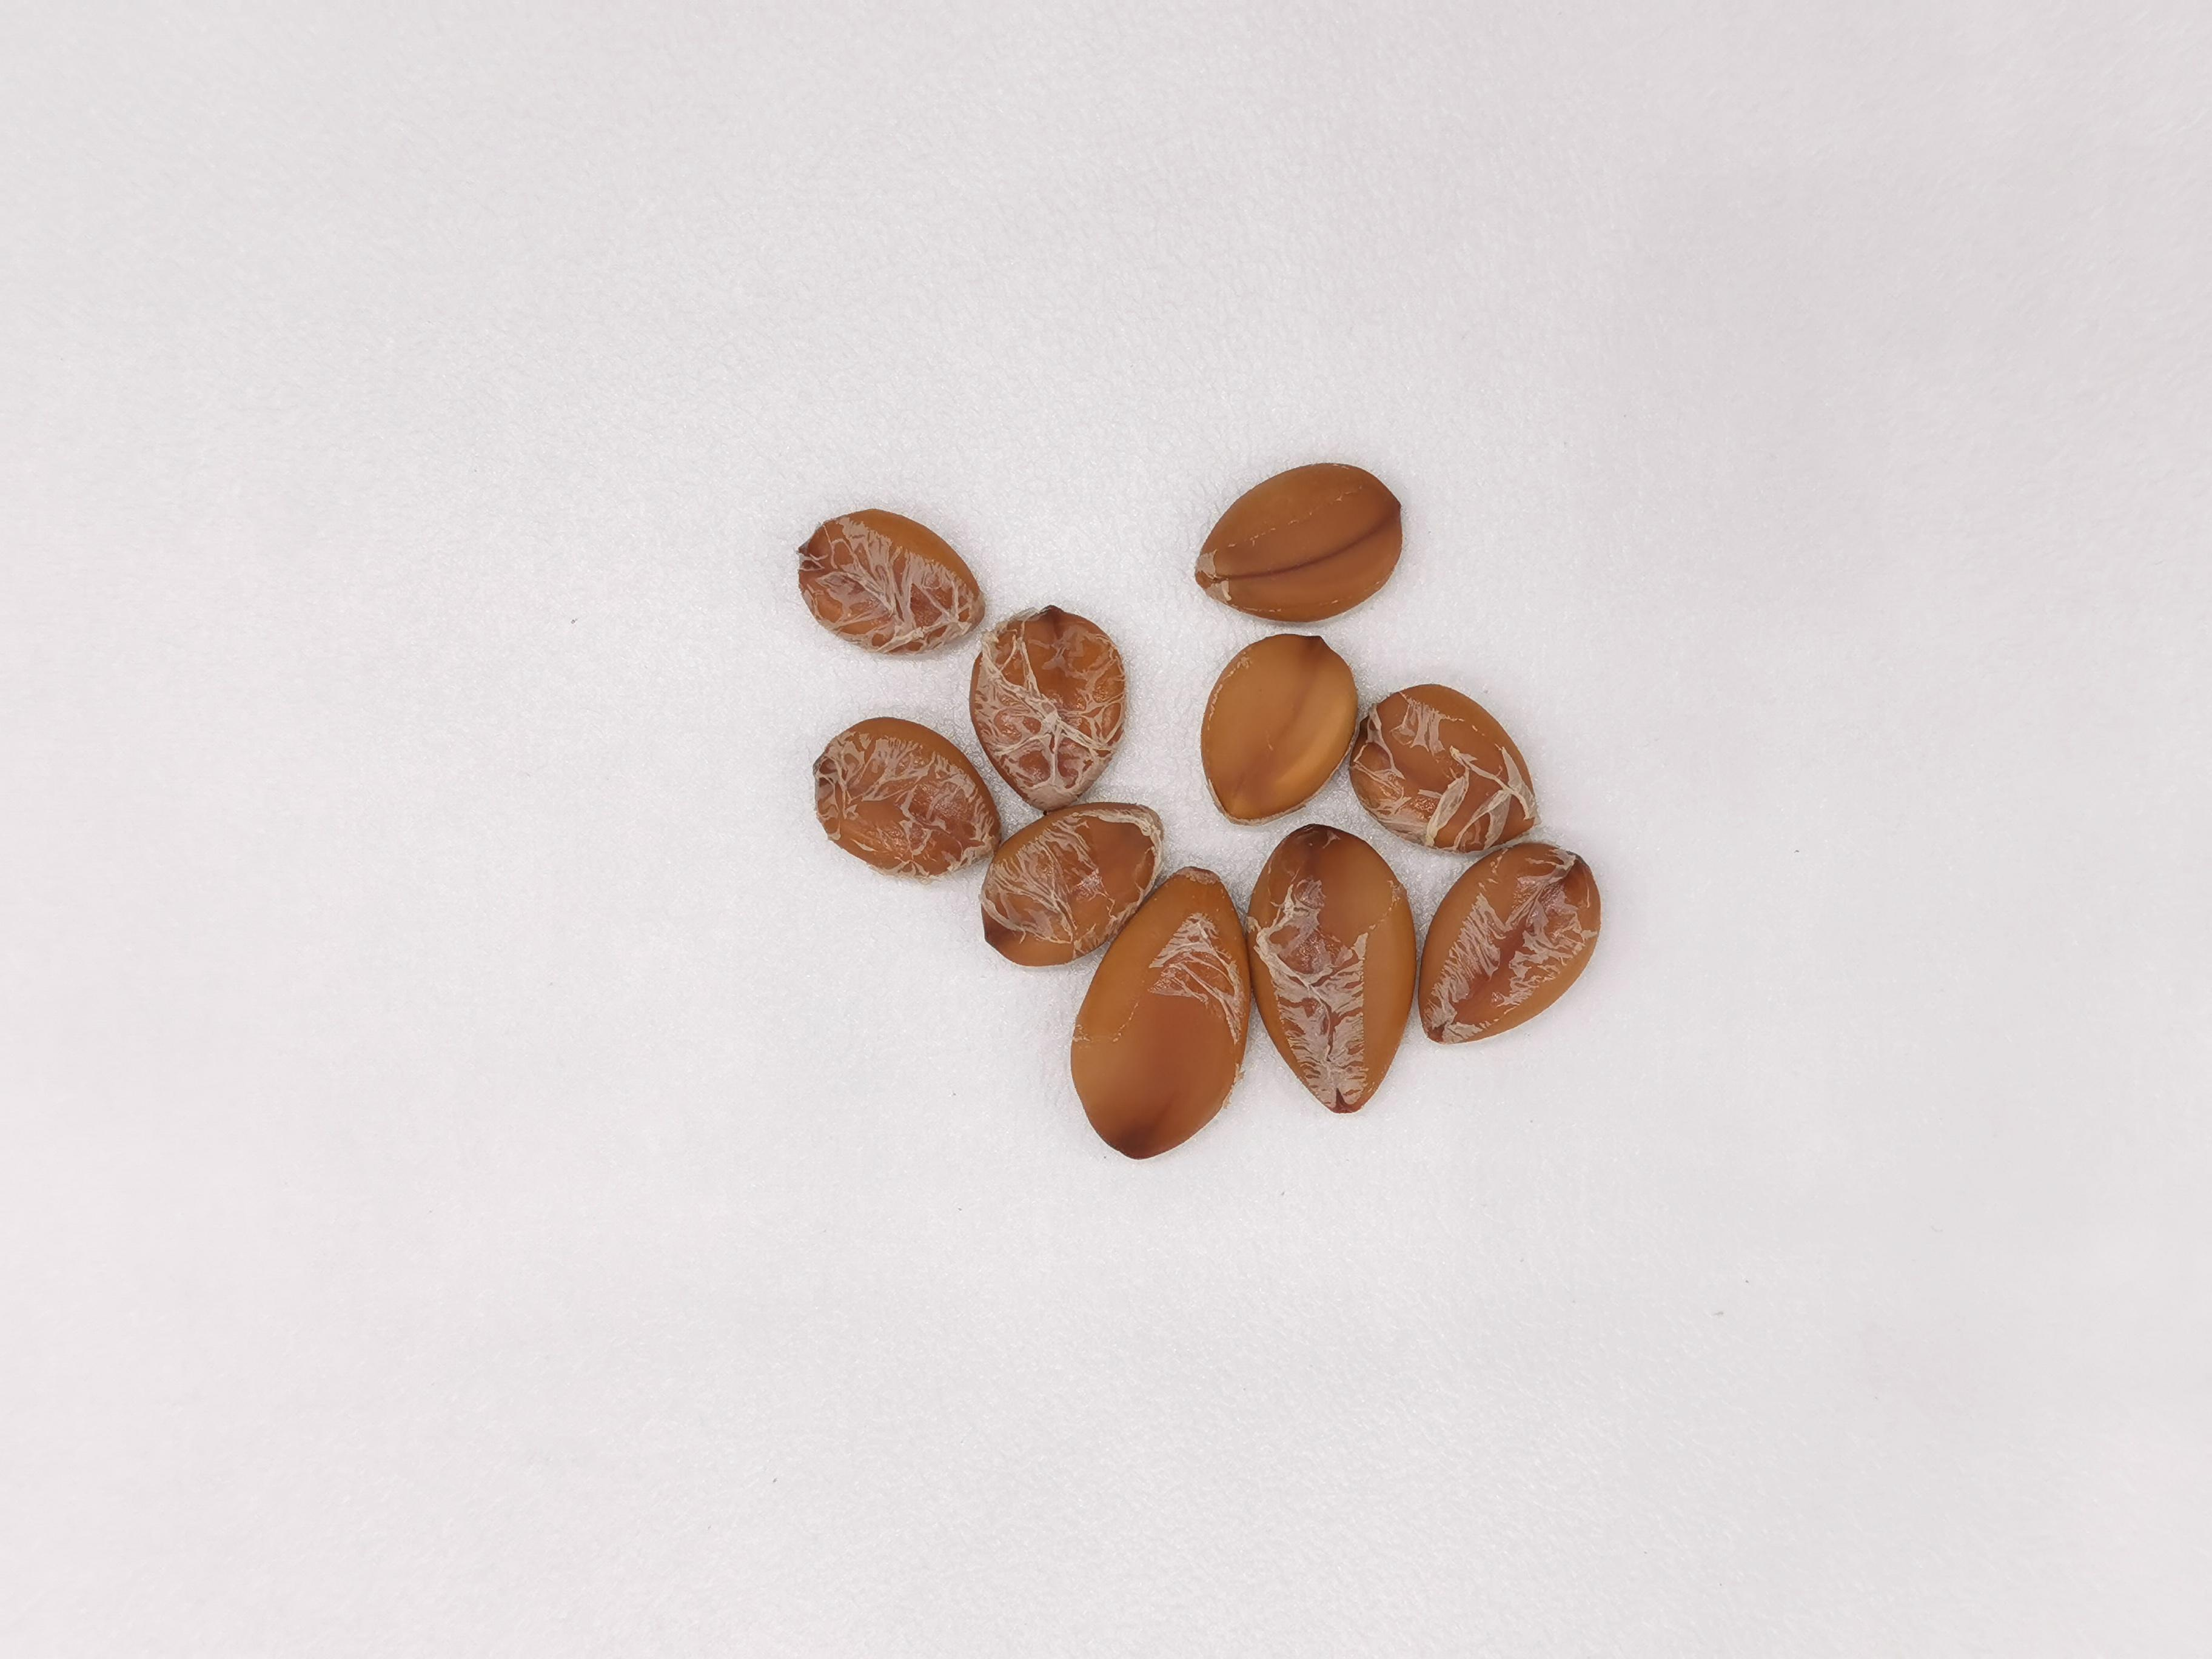seed: (1066, 861, 1258, 1159), (1244, 819, 1414, 1117), (1421, 840, 1602, 1047), (1195, 457, 1407, 626), (1350, 680, 1543, 849), (967, 610, 1125, 812), (810, 716, 1003, 878), (981, 798, 1165, 964), (1197, 633, 1357, 823), (798, 509, 986, 655)
